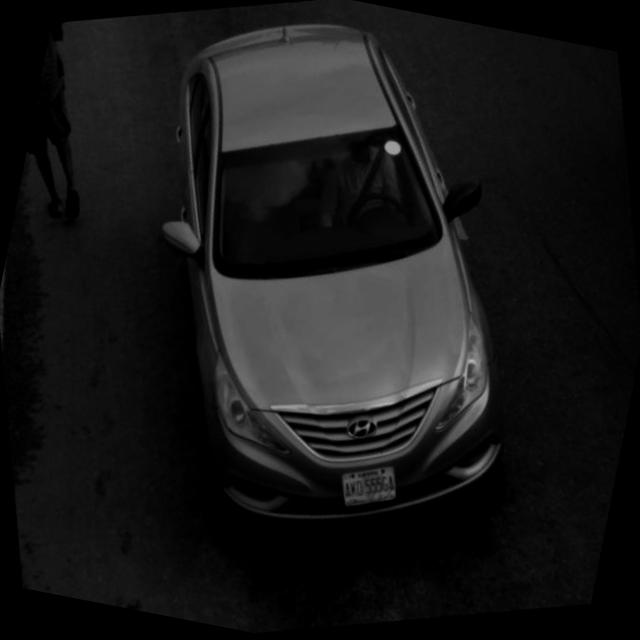person_with_seatbelt: (316, 120, 417, 257)
